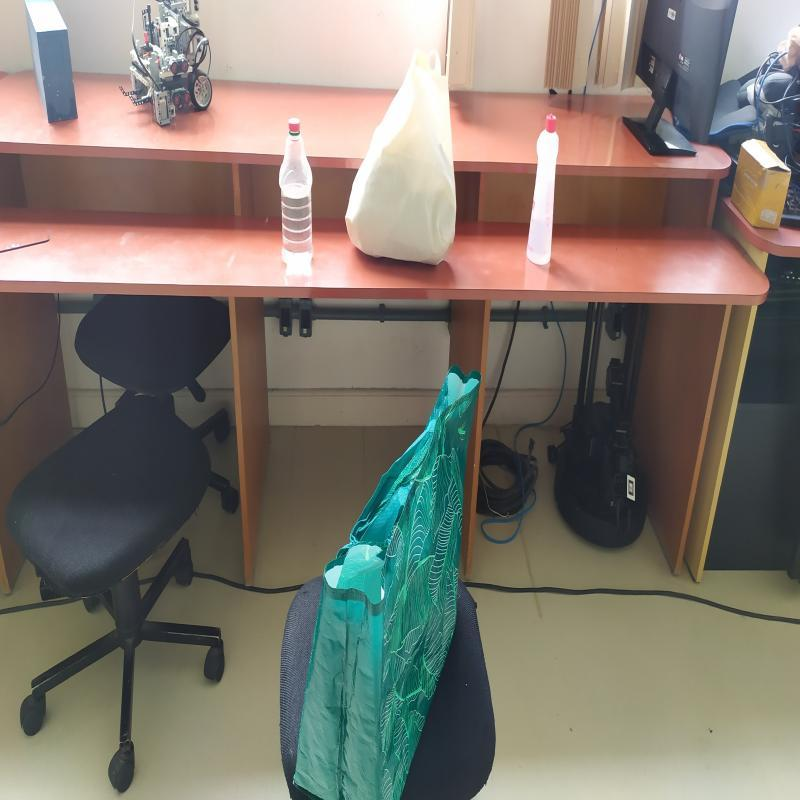Bag: (294, 360, 486, 800), (343, 51, 462, 276)
